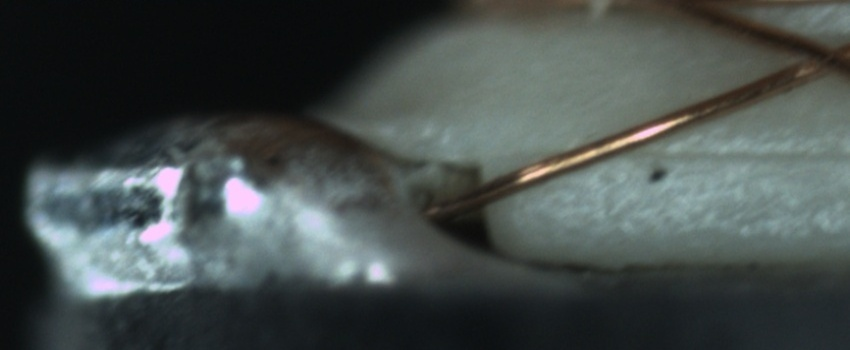CL: (776, 29, 848, 86)
DL: (611, 121, 847, 186)
